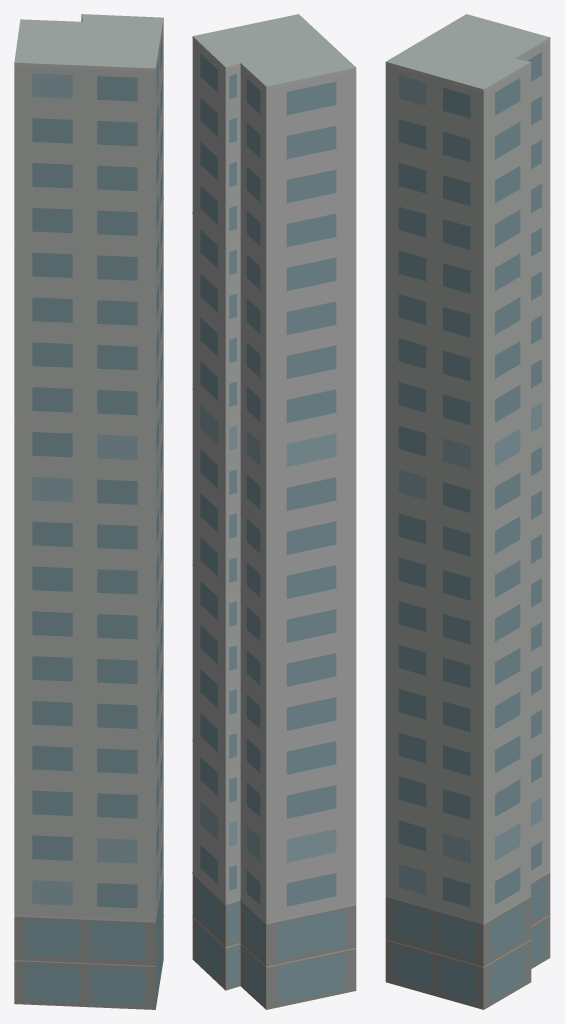
File: survey-upis-32726968.glb
The picture shows the model from 3 angles, left to right: view 1: azimuth 30°, elevation 25°; view 2: azimuth 150°, elevation 25°; view 3: azimuth 270°, elevation 25°; orthographic projection. The views are drawn at different scales.
Parts seen in each view (by area): view 1: survey-upis-32726968.tmp; view 2: survey-upis-32726968.tmp; view 3: survey-upis-32726968.tmp.
Part boxes in pixels (x1,y1,x2,y2): survey-upis-32726968.tmp: [14, 14, 163, 1009]; survey-upis-32726968.tmp: [192, 14, 356, 1009]; survey-upis-32726968.tmp: [385, 14, 550, 1009].
Bounding box in the file's own units: 11.28 × 64.05 × 10.41.
